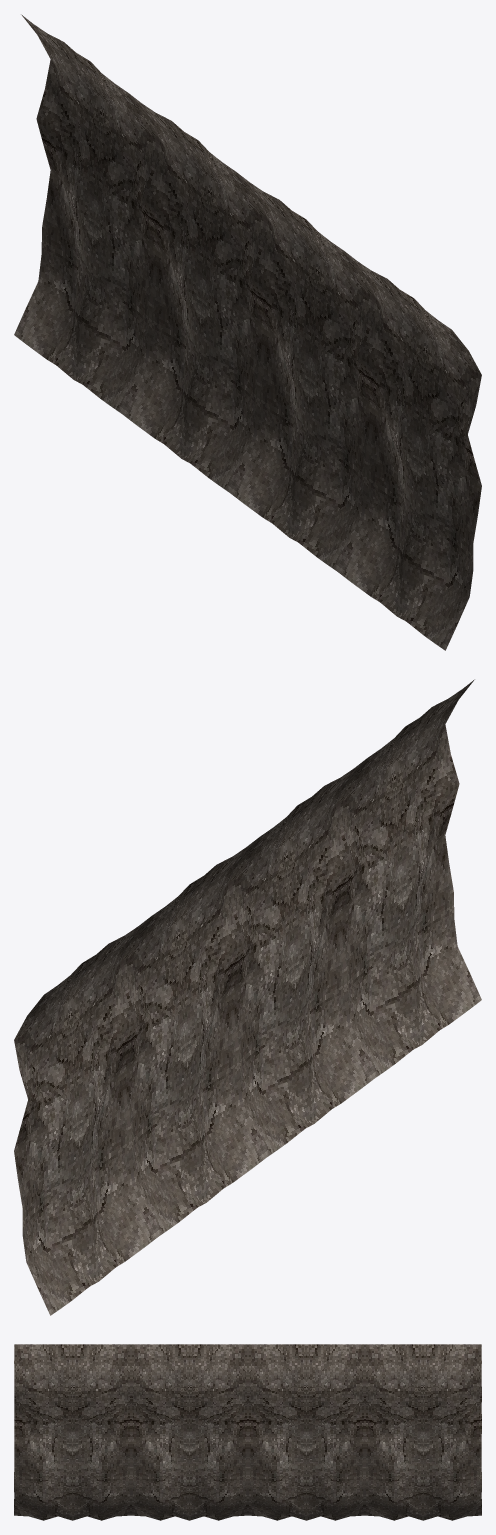
Rendered from WallSegment.glb.
The picture shows the model from 3 angles, top to bottom: view 1: azimuth 30°, elevation 25°; view 2: azimuth 150°, elevation 25°; view 3: azimuth 270°, elevation 25°; orthographic projection. The views are drawn at different scales.
Visible parts, largest first — view 1: Plane.030; view 2: Plane.030; view 3: Plane.030.
Boxes of the visible parts, x1,y1,x2,y2 form: Plane.030: (14, 14, 481, 650); Plane.030: (14, 679, 481, 1315); Plane.030: (14, 1344, 481, 1520).
Size of the model in its own units: 1.8 by 14.9 by 35.63.
Materials: 1 (1 with a texture image).
